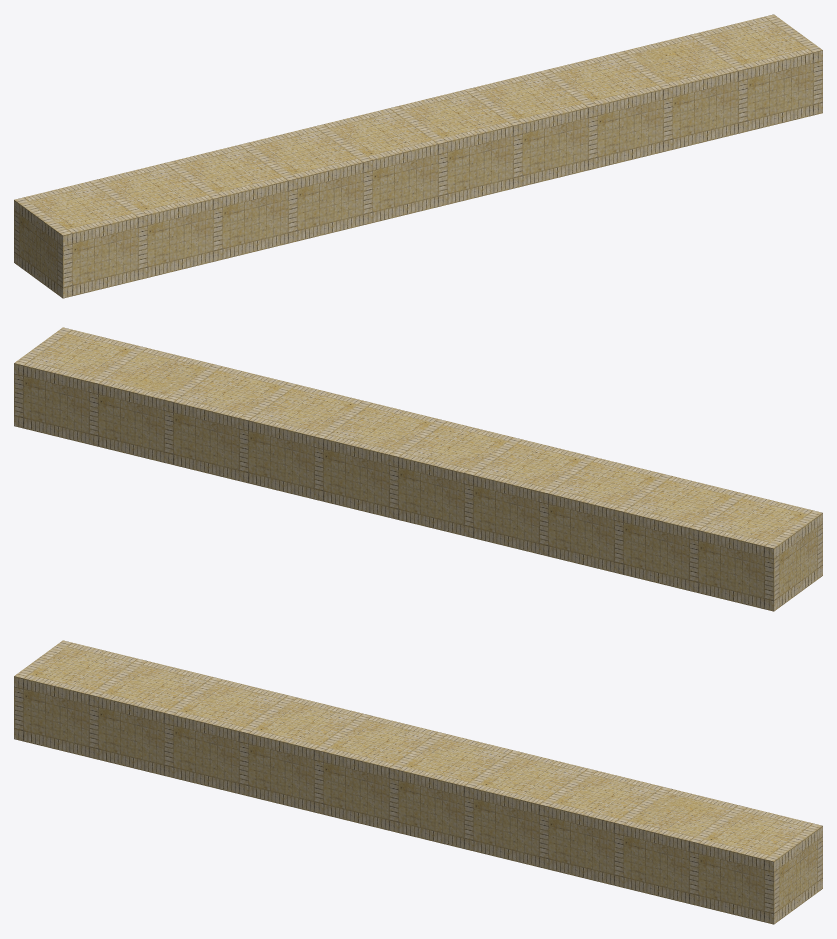
The model's file is bridge_structure_upper_level.dae.
3 renders of one model, top to bottom at view 1: azimuth 30°, elevation 25°; view 2: azimuth 150°, elevation 25°; view 3: azimuth 330°, elevation 25°, orthographic.
Parts seen in each view (by area): view 1: bridge_structure_upper_level; view 2: bridge_structure_upper_level; view 3: bridge_structure_upper_level.
Part boxes in pixels (x1,y1,x2,y2): bridge_structure_upper_level: [14, 14, 822, 298]; bridge_structure_upper_level: [14, 327, 822, 611]; bridge_structure_upper_level: [14, 640, 822, 924].
Bounding box in the file's own units: 57.1 × 6.38 × 4.52.
2 materials, 2 textured.
